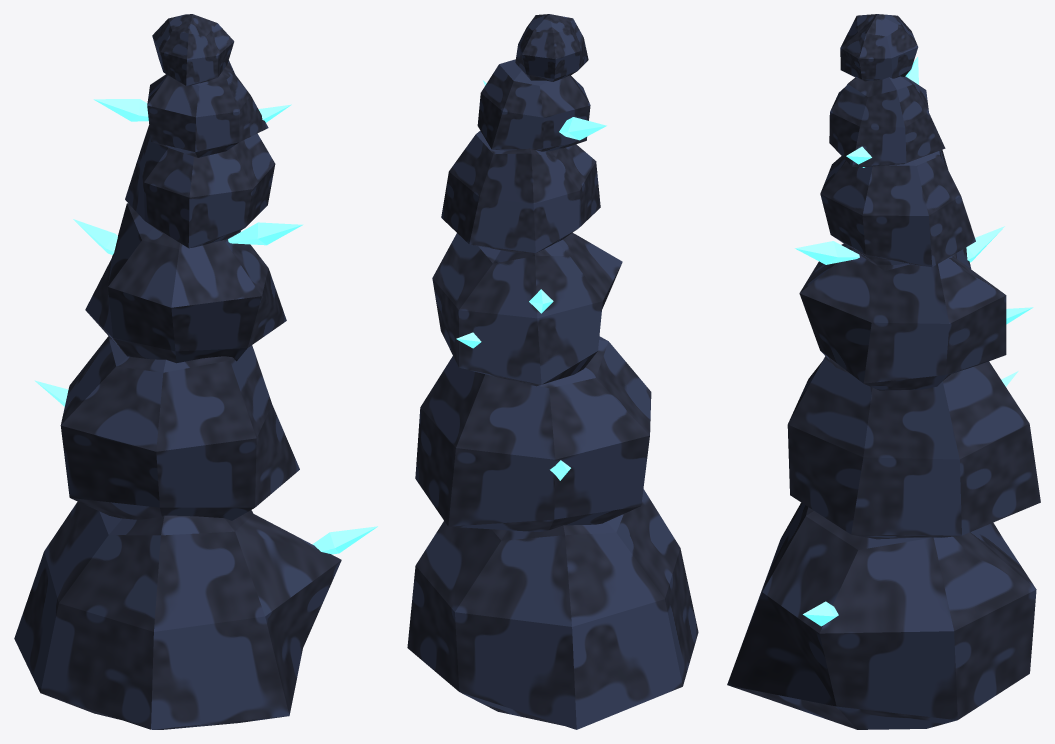
The model's file is TrenchSpire.glb.
3 renders of one model, left to right at view 1: azimuth 30°, elevation 25°; view 2: azimuth 150°, elevation 25°; view 3: azimuth 270°, elevation 25°, orthographic. The views are drawn at different scales.
Parts seen in each view (by area): view 1: TrenchSpire, TrenchSpire_Glow; view 2: TrenchSpire, TrenchSpire_Glow; view 3: TrenchSpire, TrenchSpire_Glow.
Boxes of the visible parts, left/top/right/bottom form: TrenchSpire: left=14, top=14, right=341, bottom=729; TrenchSpire_Glow: left=34, top=99, right=377, bottom=554; TrenchSpire: left=407, top=14, right=698, bottom=729; TrenchSpire_Glow: left=456, top=80, right=606, bottom=480; TrenchSpire: left=727, top=14, right=1040, bottom=729; TrenchSpire_Glow: left=795, top=57, right=1033, bottom=626.
Bounding box in the file's own units: 2.13 × 4.74 × 1.95.
Materials: 2 (1 with a texture image).
